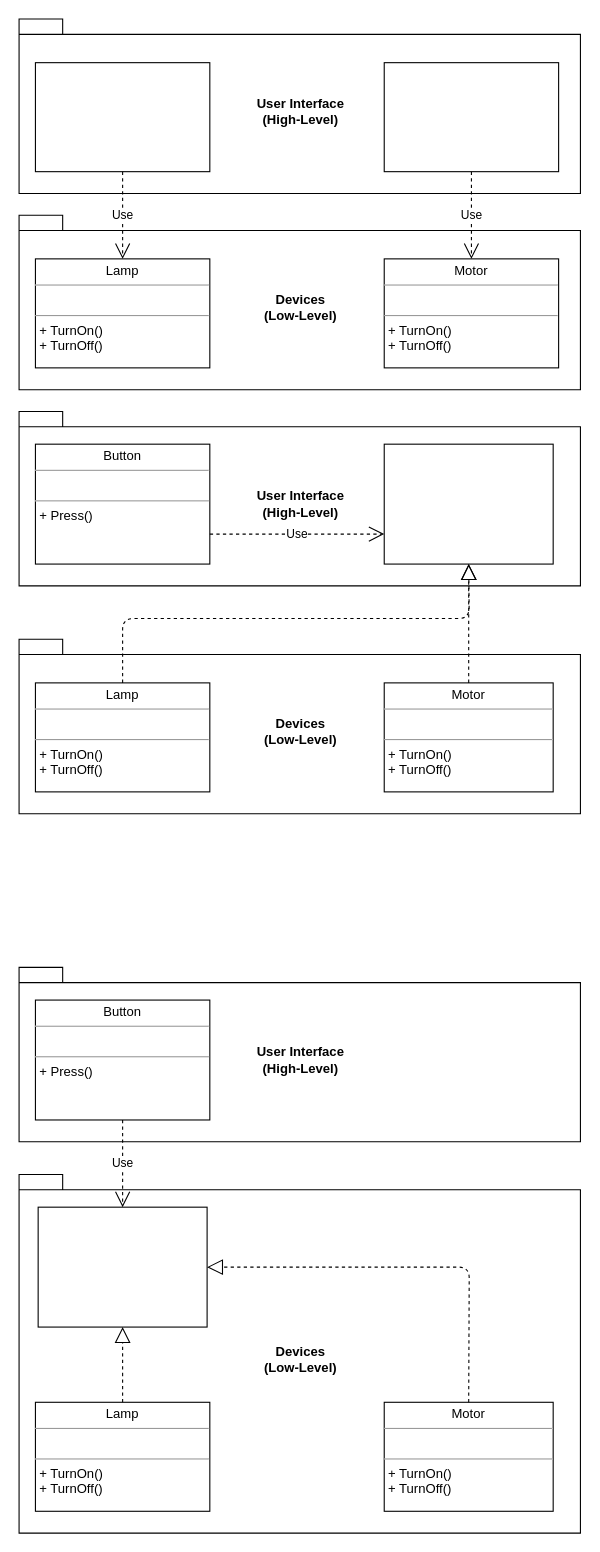
This 600x1552 diagram has some shape labels left out. The shapes that lost their labels are listed below. From the top down, each one's box as (x1, y1, x2, y2) in pixels, then its label:
(34, 62, 210, 172): LampButton + Press()
(383, 62, 559, 172): MotorButton + Press()
(383, 443, 553, 564): <<Interface>> ISwitchable + TurnOn() + TurnOff()
(37, 1206, 207, 1327): <<Interface>> IDevice + TurnOn() + TurnOff()
